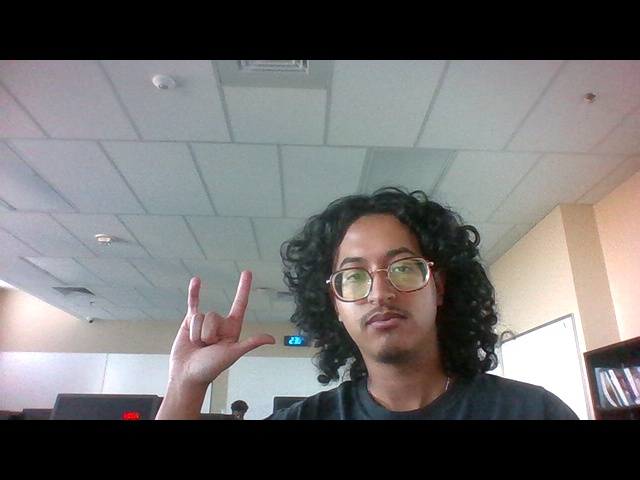iloveyou: (163, 264, 286, 394)
